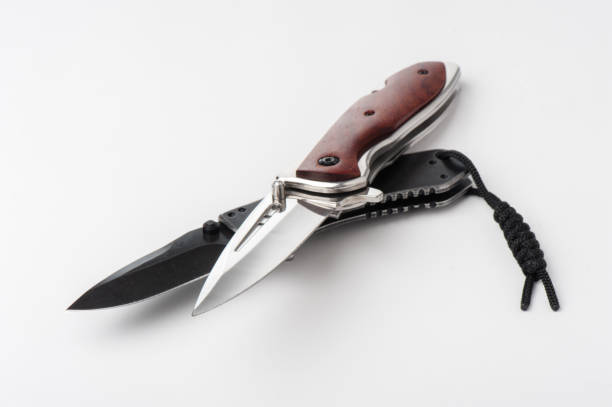knife: (64, 58, 479, 322)
